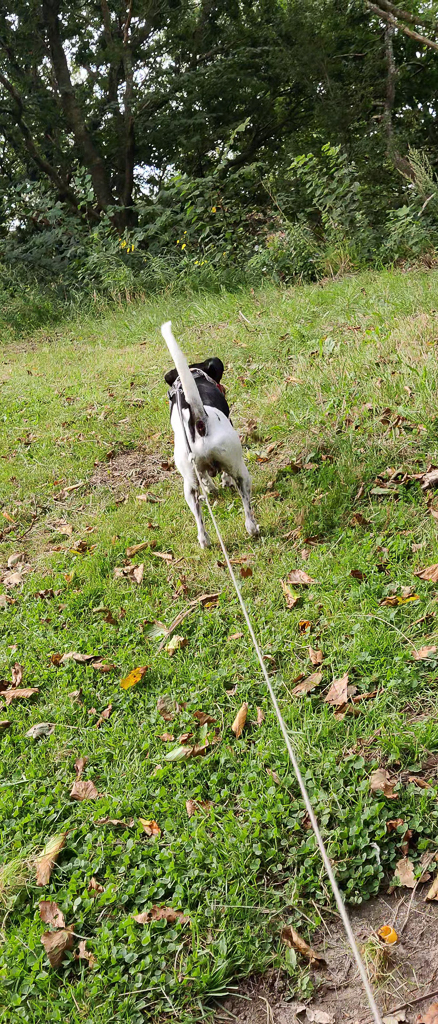Dog: (141, 302, 279, 568)
